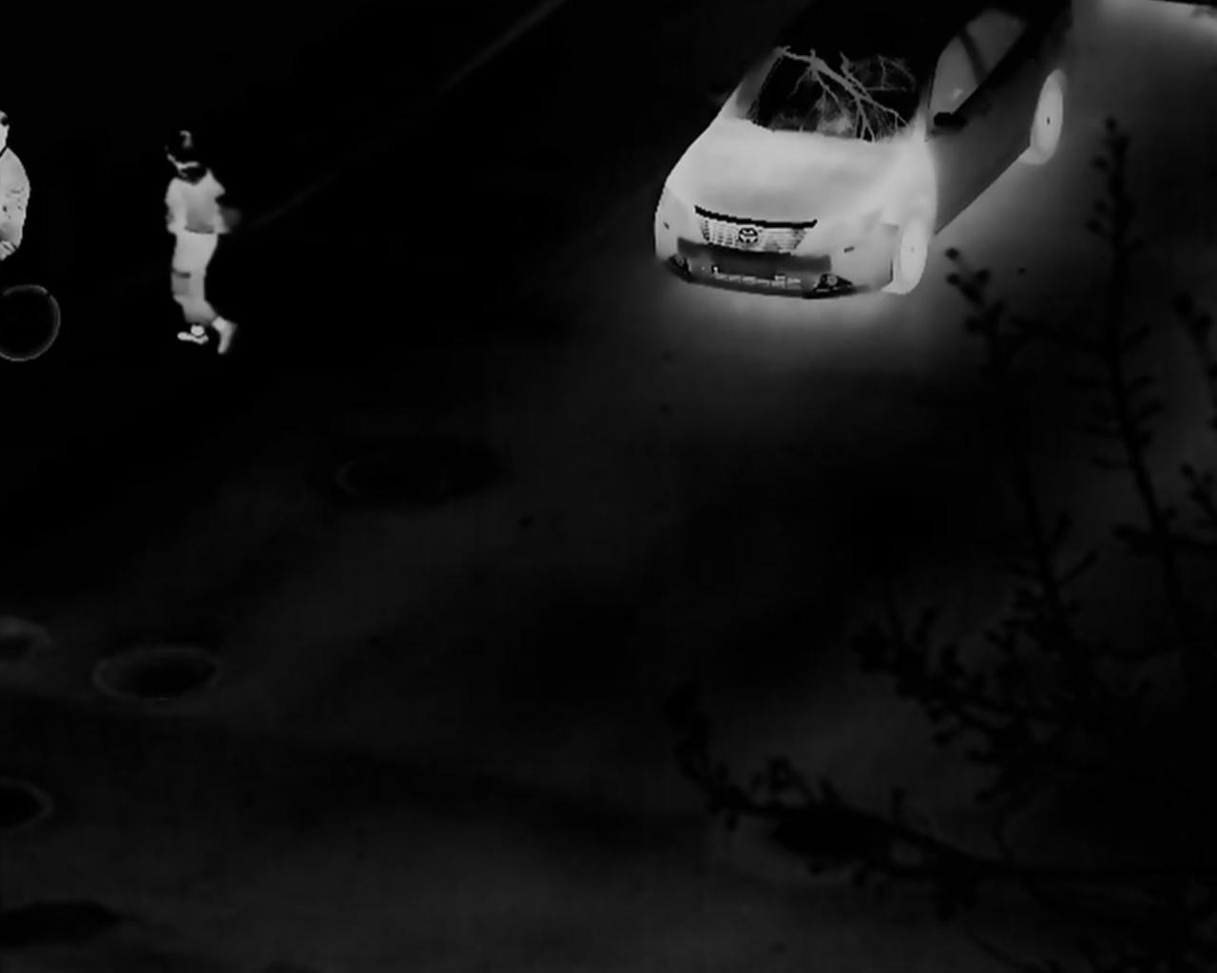person: (163, 127, 236, 356)
